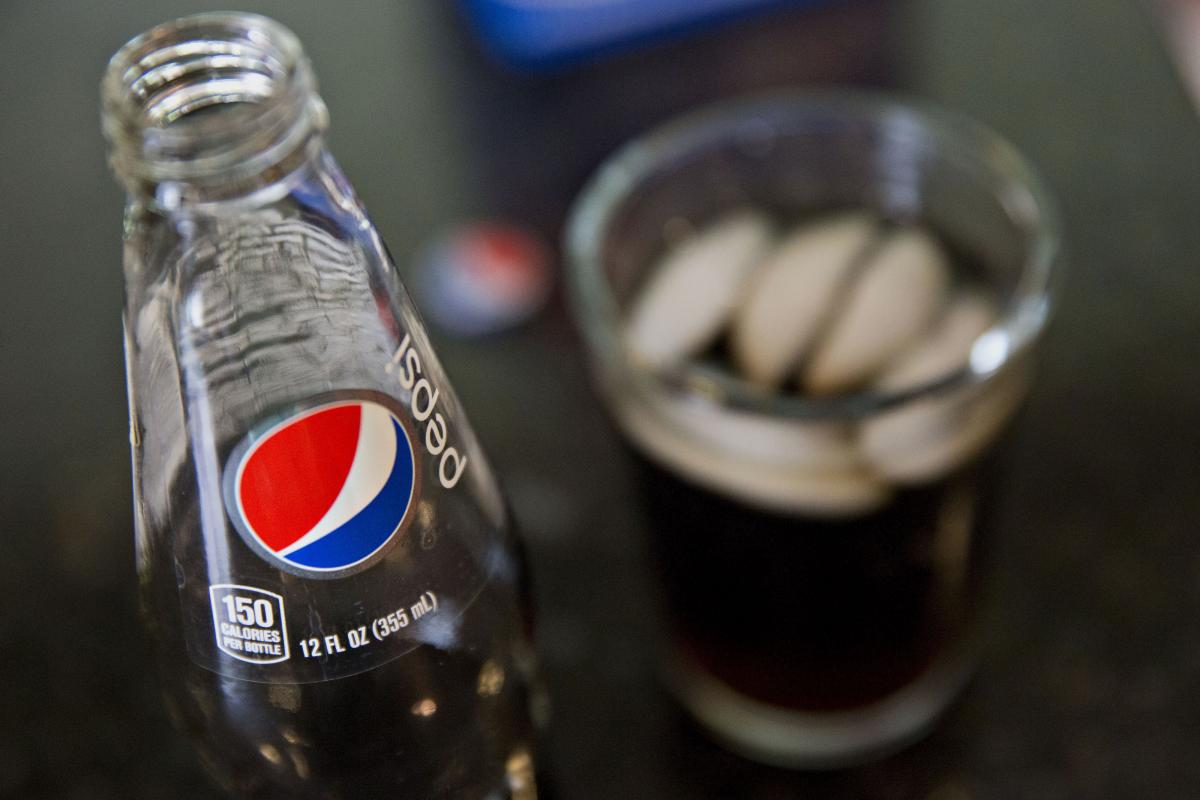pepsi: (217, 394, 416, 572), (217, 410, 427, 572), (230, 394, 416, 572), (217, 410, 416, 572)
